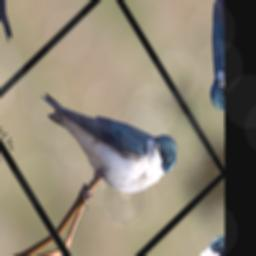Swallow: (37, 29, 185, 226)
